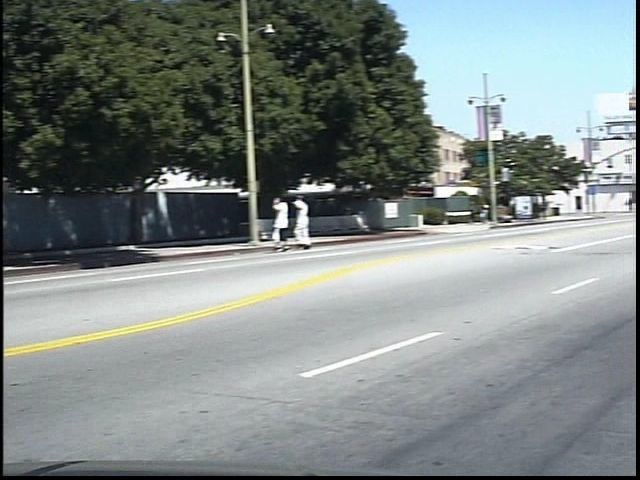person: (285, 193, 311, 256), (307, 195, 333, 255)
